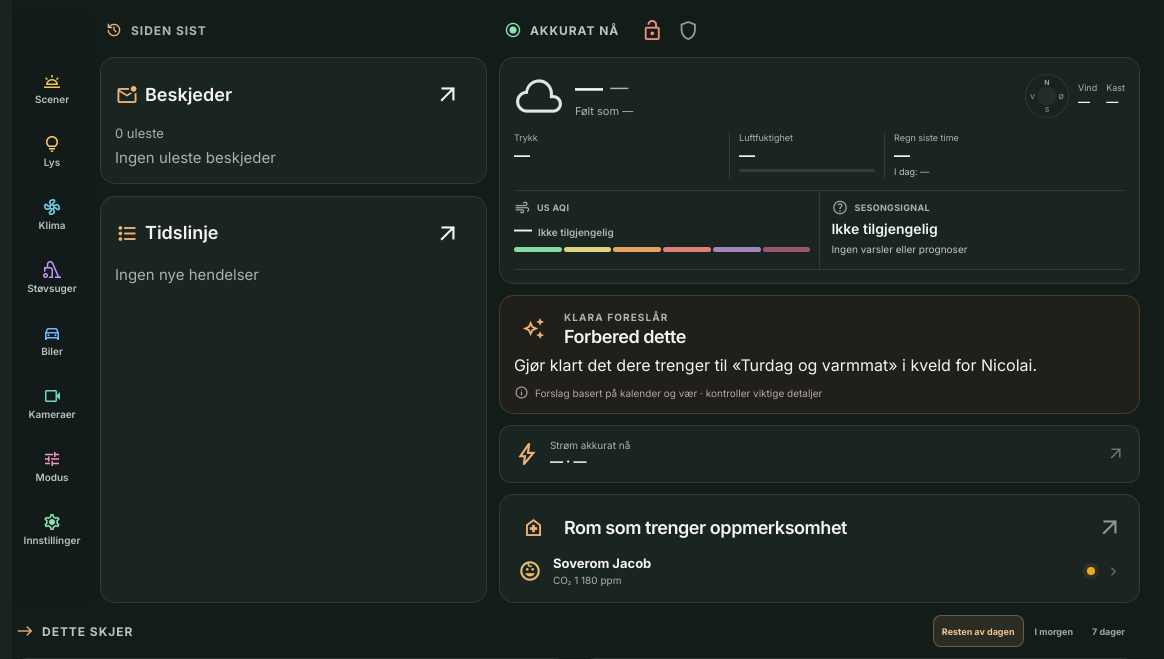
Test: MainDashboardPrototype Nicolai agenda › reveals the scene choices from the home navigation and still requires confirmation
Step 1. Click the button "Scener" → (52, 88), box [16,59,88,117]
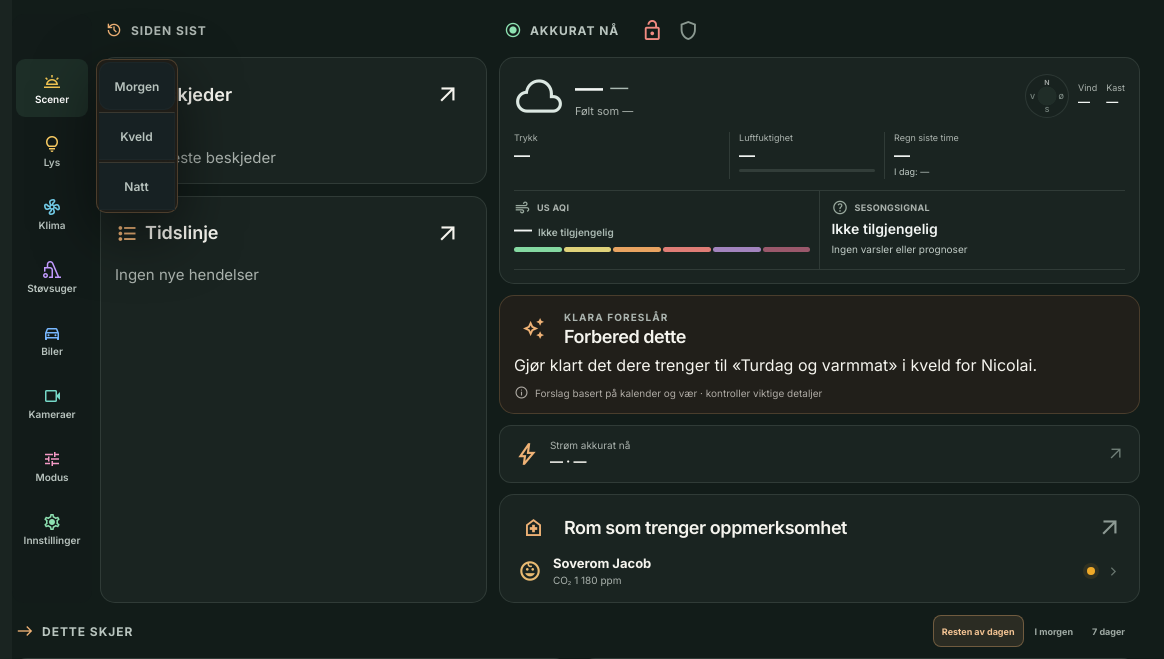
expect the button "Scener" is expanded: met, box [16,59,88,117]
expect the button "Morgen" is shown: met
expect the button "Kveld" is shown: met, box [99,112,175,160]
Step 2. Click the button "Morgen" → (137, 86), box [99,62,175,110]
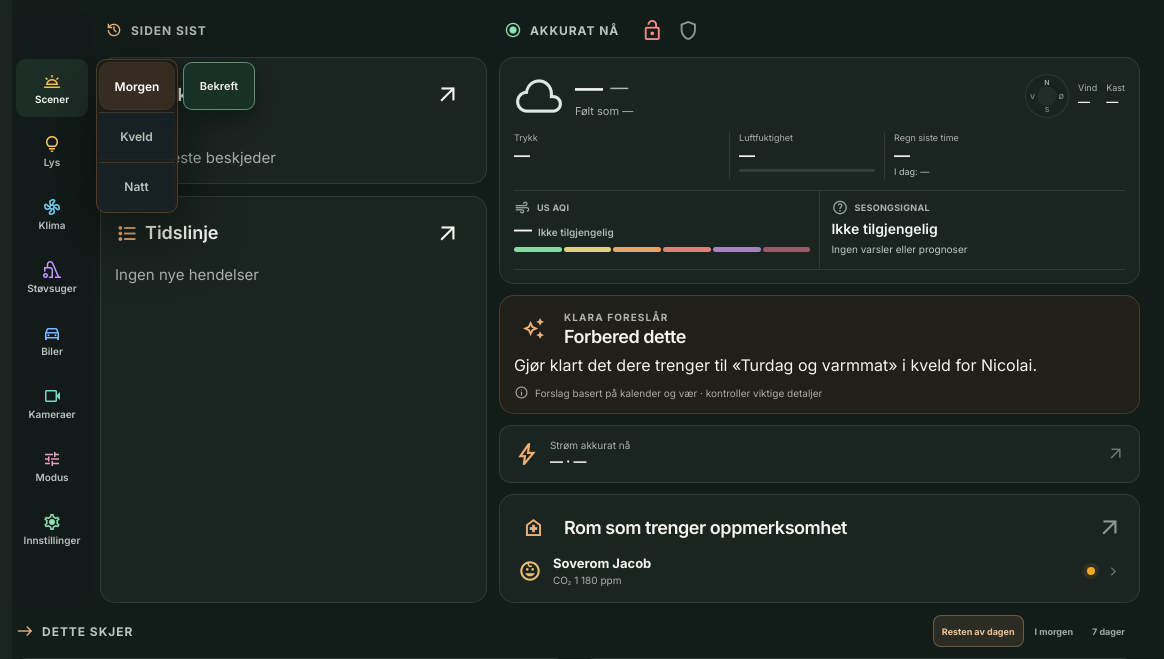
Step 3. Click the button with aria-label "Bekreft Morgen" → (219, 86), box [183,62,255,110]
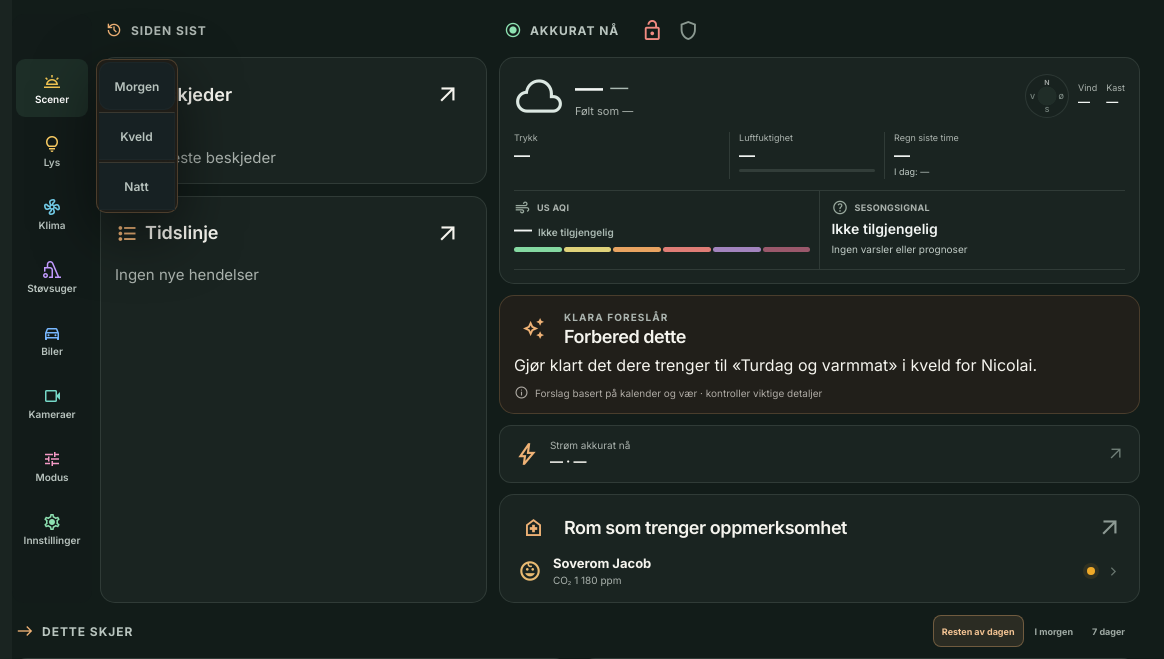
Step 4. Click the button "Scener" → (52, 88), box [16,59,88,117]
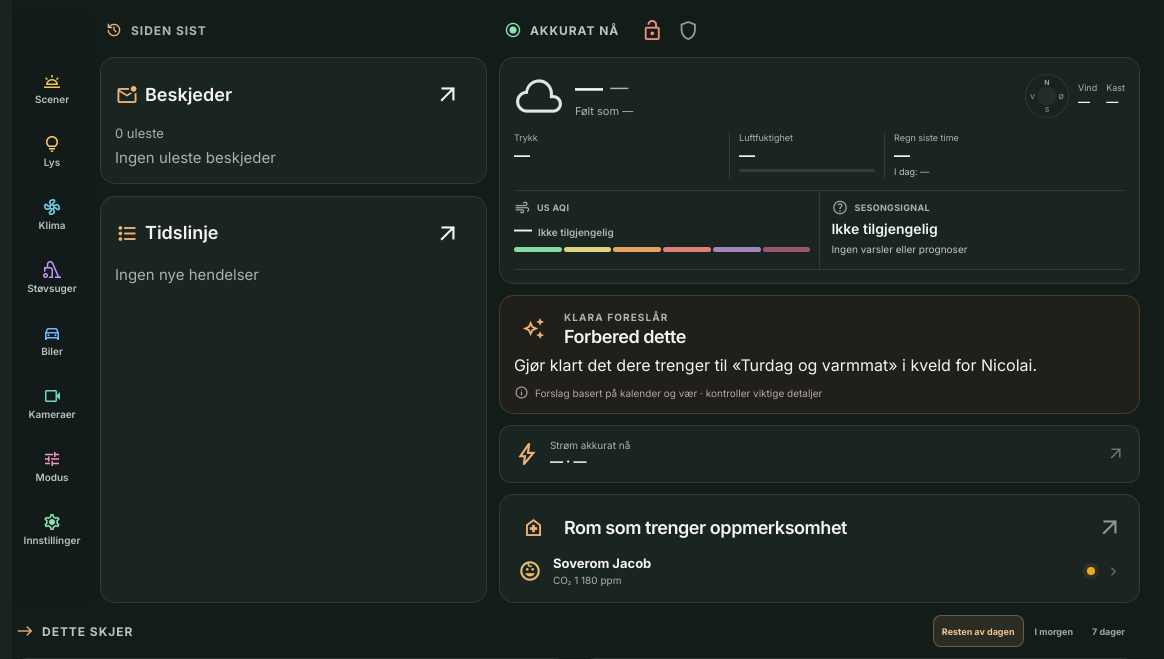
expect the button "Scener" is collapsed: met, box [16,59,88,117]
